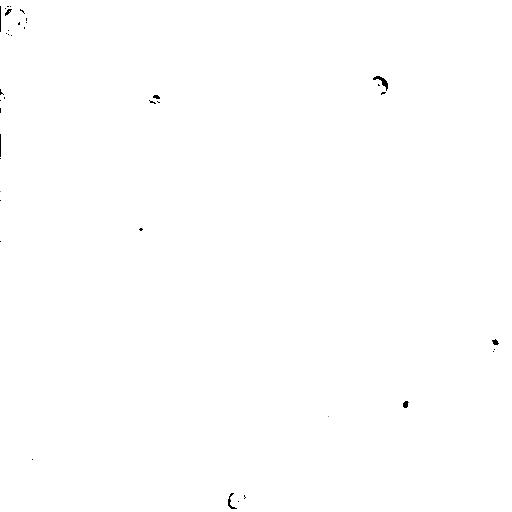micro-algae: (472, 326, 510, 361), (388, 385, 422, 420), (15, 445, 49, 479), (125, 217, 160, 245), (0, 5, 27, 37), (225, 488, 248, 510), (367, 75, 389, 93), (1, 89, 7, 109)
